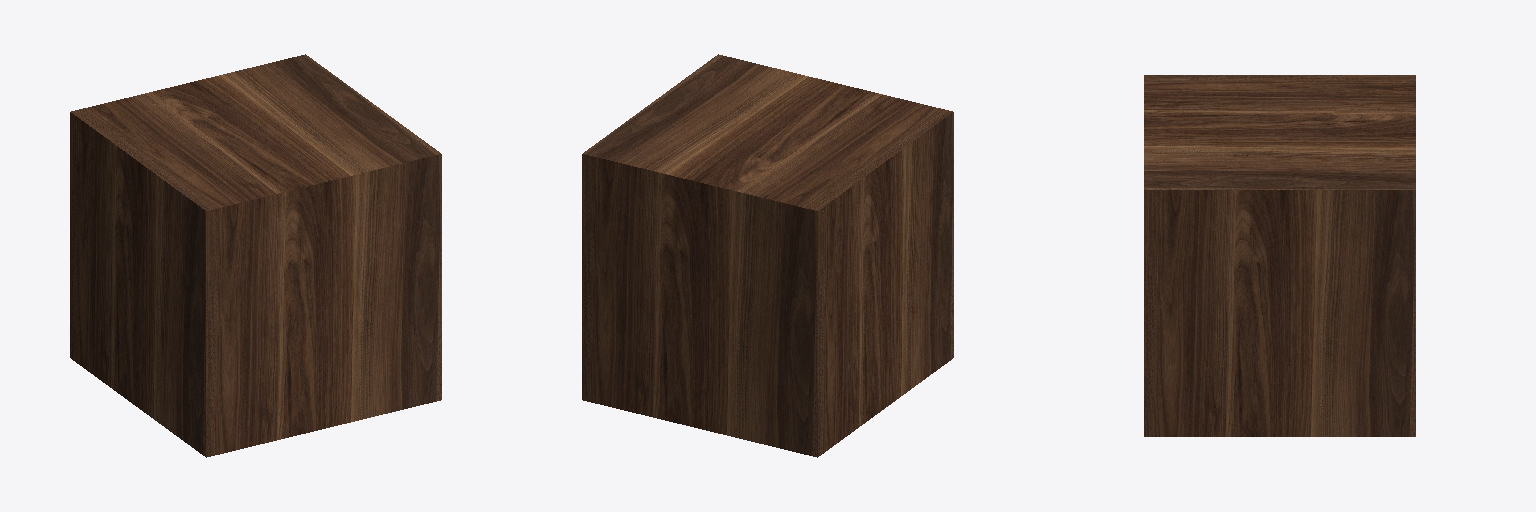
The picture shows the model from 3 angles: view 1: azimuth 30°, elevation 25°; view 2: azimuth 150°, elevation 25°; view 3: azimuth 270°, elevation 25°; orthographic projection.
Visible parts, largest first — view 1: Box001; view 2: Box001; view 3: Box001.
Part boxes in pixels (x1,y1,x2,y2): Box001: (70, 54, 441, 457); Box001: (582, 54, 953, 457); Box001: (1144, 75, 1415, 436).
Size of the model in its own units: 1 by 1 by 1.
1 materials, 1 textured.